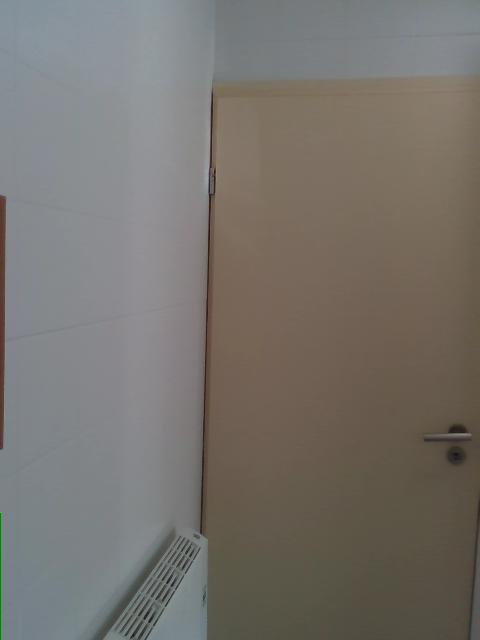door: (197, 76, 479, 639)
